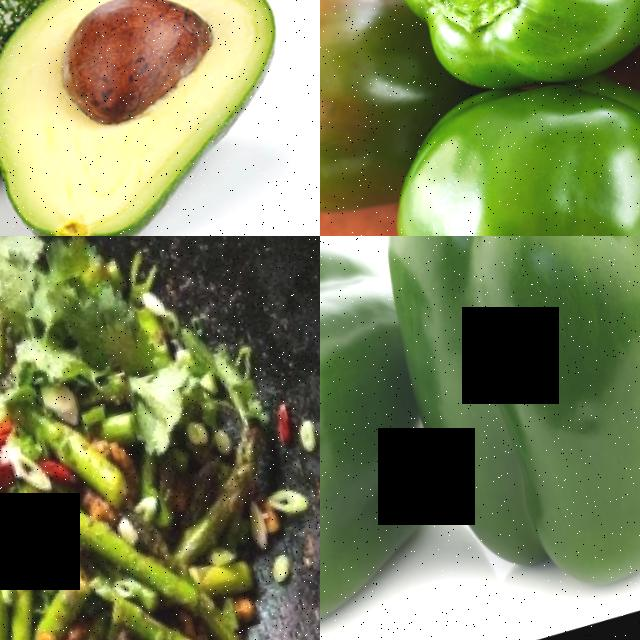avocado: (0, 0, 320, 236)
bell pepper: (328, 236, 640, 597), (320, 236, 472, 616), (396, 40, 640, 236), (387, 0, 640, 93)
